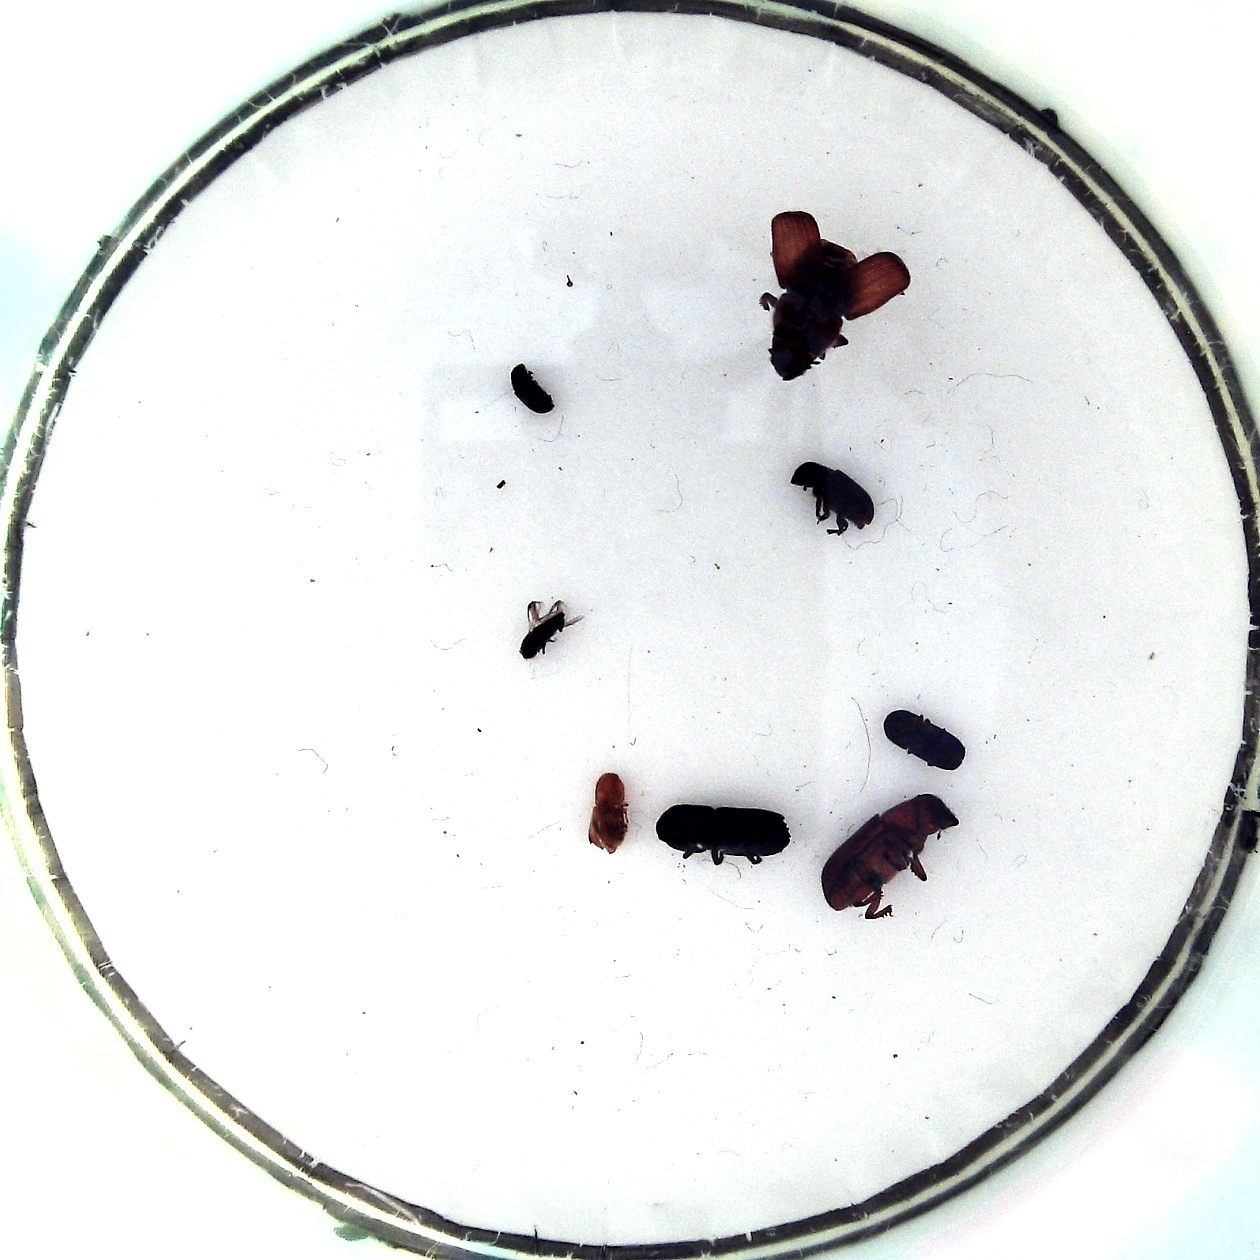Boerner: (655, 804, 792, 861)
Leconte: (820, 792, 958, 910), (768, 237, 858, 383)
acuminatus: (520, 610, 567, 658)
armandi: (792, 462, 875, 528)
coleoptera: (586, 773, 630, 856), (511, 361, 554, 417)
linnaeus: (883, 708, 965, 770)
